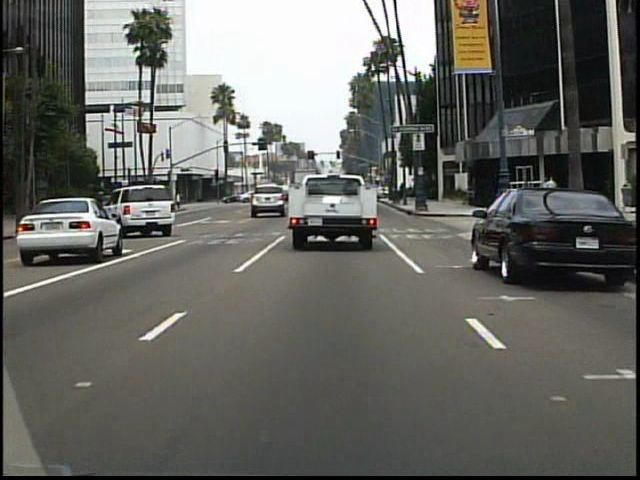person: (543, 174, 560, 213), (177, 190, 186, 212)
